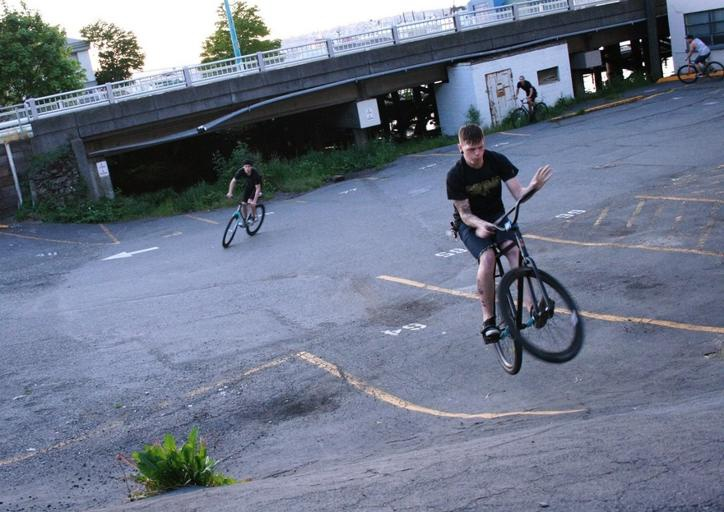non-vehicle: (483, 187, 584, 375), (222, 192, 264, 247), (677, 54, 723, 83), (511, 96, 548, 128)
